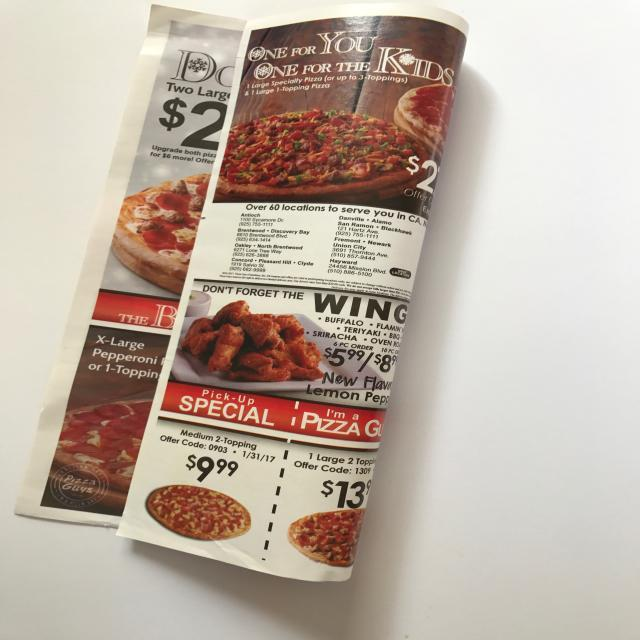paper: (20, 4, 470, 585)
